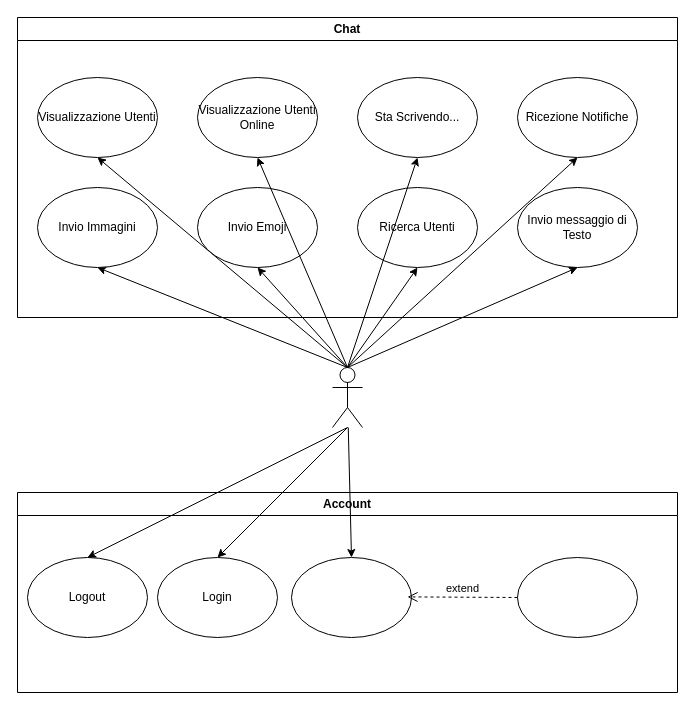
Image size: 695x710. Some labels were removed from this diagram. Each missing label, with the centre of its shape:
"Caricamento immagine del profilo" belongs at (577,597).
"SignUp" belongs at (351,597).
"Utente" belongs at (347,397).
